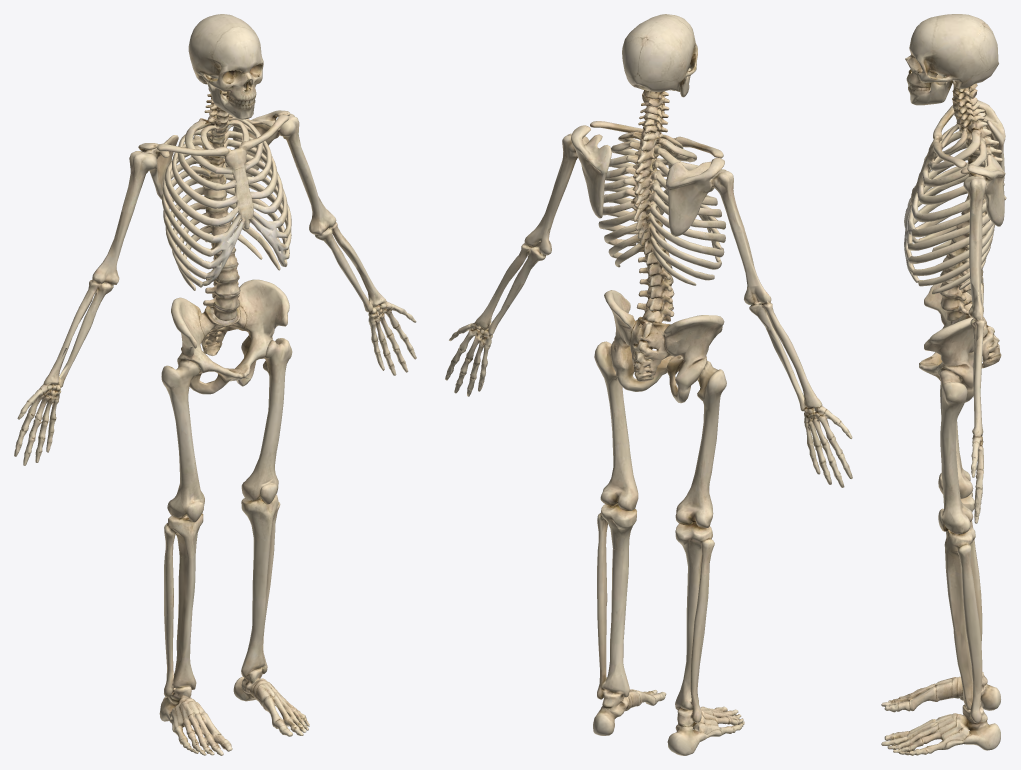
The model's file is skeleton-low.glb.
The picture shows the model from 3 angles, left to right: view 1: azimuth 30°, elevation 25°; view 2: azimuth 150°, elevation 25°; view 3: azimuth 270°, elevation 25°; orthographic projection.
Visible parts, largest first — view 1: human-skeleton; view 2: human-skeleton; view 3: human-skeleton.
Boxes of the visible parts, <box> form: human-skeleton: <box>14,14,416,755</box>; human-skeleton: <box>445,14,852,755</box>; human-skeleton: <box>881,14,1006,755</box>.
Bounding box in the file's own units: 1.05 × 1.75 × 0.2794.
Materials: 1 (1 with a texture image).
